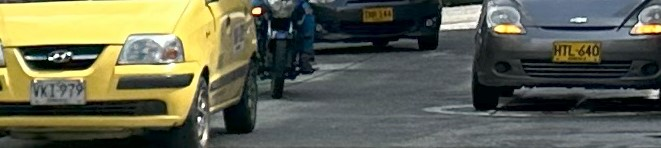number plate: (31, 80, 85, 104), (553, 42, 600, 61)
